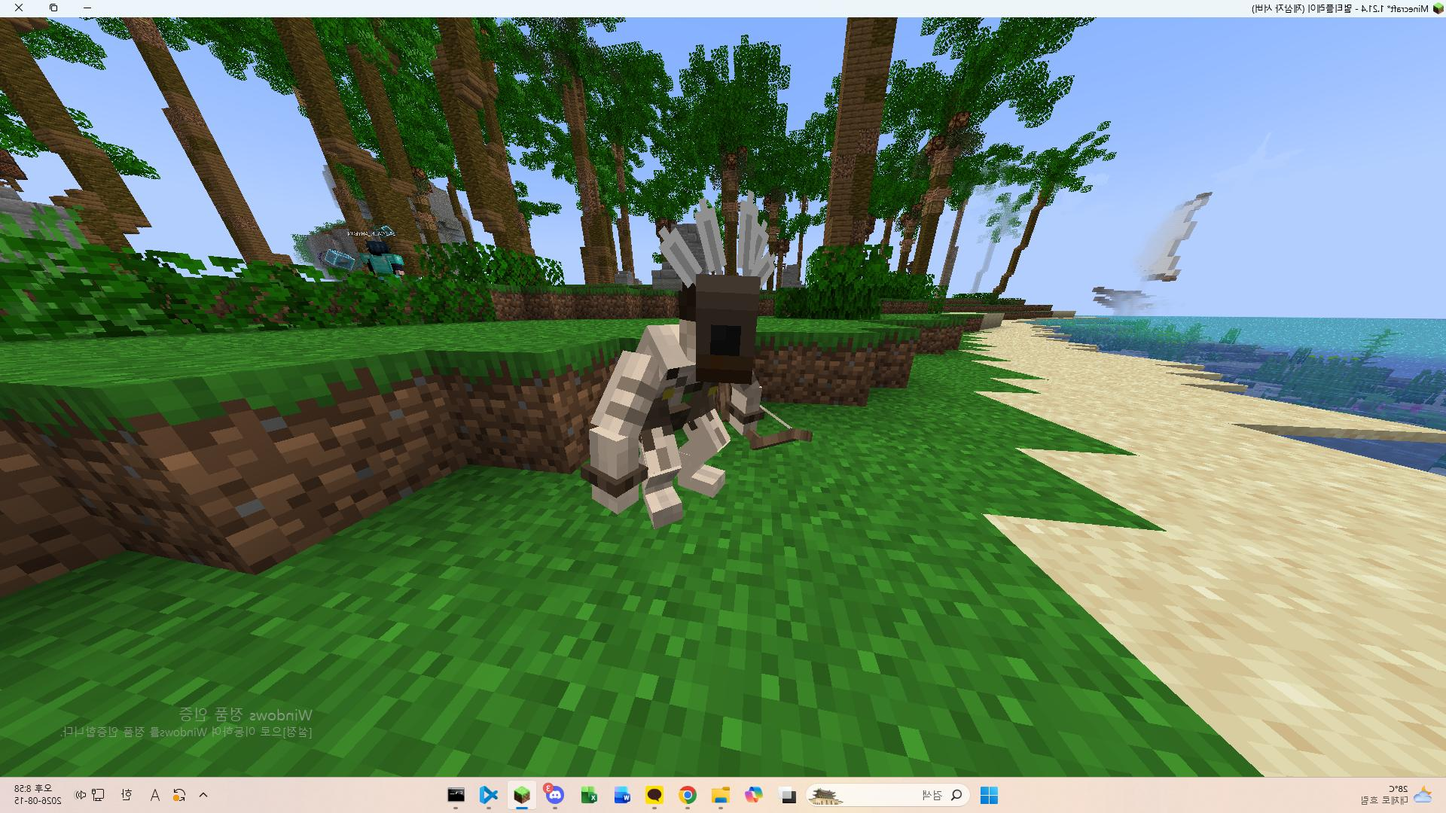bow_indian: (583, 255, 812, 527)
